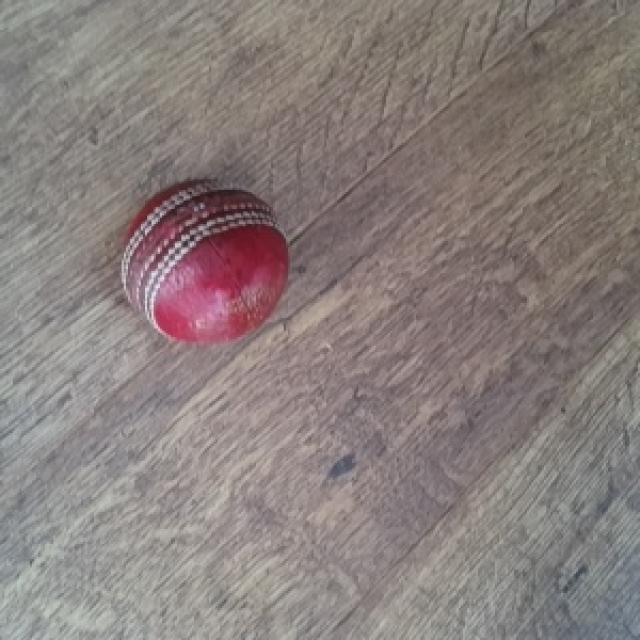ball: (122, 183, 290, 348)
